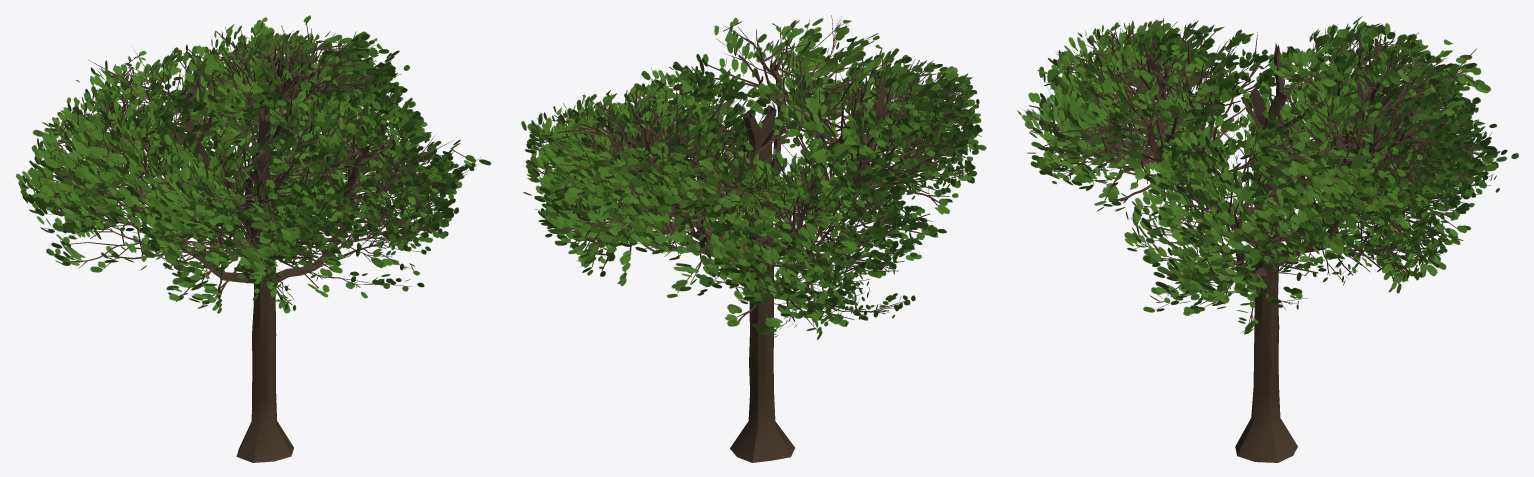
The picture shows the model from 3 angles, left to right: view 1: azimuth 30°, elevation 25°; view 2: azimuth 150°, elevation 25°; view 3: azimuth 270°, elevation 25°; orthographic projection. The views are drawn at different scales.
Parts seen in each view (by area): view 1: oak 01.001_trunk_Mat.001_0.042; view 2: oak 01.001_trunk_Mat.001_0.042; view 3: oak 01.001_trunk_Mat.001_0.042.
Boxes of the visible parts, left/top/right/bottom form: oak 01.001_trunk_Mat.001_0.042: left=15, top=15, right=491, bottom=462; oak 01.001_trunk_Mat.001_0.042: left=521, top=15, right=986, bottom=462; oak 01.001_trunk_Mat.001_0.042: left=1017, top=16, right=1518, bottom=462.
Bounding box in the file's own units: 3.79 × 3.41 × 4.14.
Materials: 2 (1 with a texture image).
